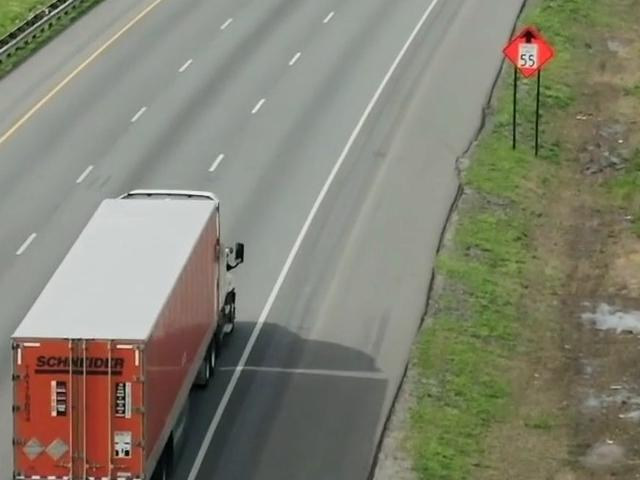truck: (0, 172, 248, 480)
